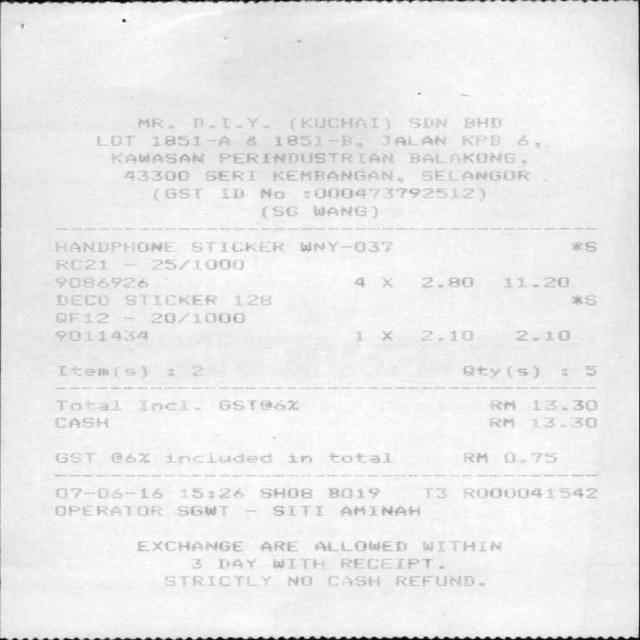text: (216, 152, 394, 163), (462, 486, 597, 500), (311, 187, 474, 198), (52, 364, 146, 380), (53, 240, 174, 252), (133, 540, 244, 553), (164, 451, 272, 464), (268, 169, 394, 180), (122, 292, 219, 306), (417, 169, 529, 181), (51, 487, 162, 499), (299, 240, 394, 254), (406, 151, 516, 163), (159, 575, 273, 586), (49, 505, 162, 516), (151, 258, 244, 271), (337, 557, 434, 569), (110, 152, 206, 164), (460, 364, 540, 378), (54, 275, 146, 287), (216, 399, 298, 412), (314, 540, 408, 551), (339, 504, 423, 516), (297, 117, 379, 129), (150, 312, 246, 322), (189, 241, 284, 251), (150, 134, 229, 146), (422, 540, 501, 552), (55, 330, 147, 340), (392, 575, 473, 586), (274, 135, 352, 146), (53, 399, 119, 412), (381, 133, 446, 146), (121, 168, 190, 180), (530, 398, 598, 410), (512, 328, 570, 342), (192, 117, 259, 129), (529, 416, 596, 428), (503, 275, 568, 287), (180, 487, 245, 499), (326, 452, 390, 464), (504, 450, 557, 464), (202, 169, 257, 182), (257, 486, 311, 499), (52, 311, 110, 323), (136, 399, 188, 412), (269, 558, 325, 570), (311, 204, 366, 216), (52, 258, 107, 270), (53, 416, 108, 428), (418, 276, 472, 288), (52, 294, 110, 305), (174, 504, 227, 516), (460, 116, 505, 130), (420, 329, 472, 341), (324, 487, 380, 498), (328, 575, 382, 586), (458, 134, 502, 146), (271, 505, 323, 515), (256, 540, 299, 552), (160, 187, 203, 198), (408, 116, 447, 128), (214, 558, 256, 569), (232, 294, 272, 305), (112, 451, 148, 463), (94, 135, 136, 145), (52, 452, 94, 462), (134, 116, 163, 130), (484, 416, 517, 428), (487, 399, 516, 412), (257, 186, 285, 198), (269, 205, 299, 216), (461, 451, 487, 463), (423, 486, 449, 498), (286, 574, 312, 586), (218, 187, 244, 198), (570, 294, 596, 305), (570, 241, 598, 251), (289, 452, 311, 463), (377, 328, 393, 342), (578, 364, 596, 376), (188, 364, 204, 376), (515, 134, 528, 146), (352, 276, 365, 288), (380, 276, 393, 288), (351, 331, 364, 341), (246, 134, 256, 146), (188, 558, 200, 568)
